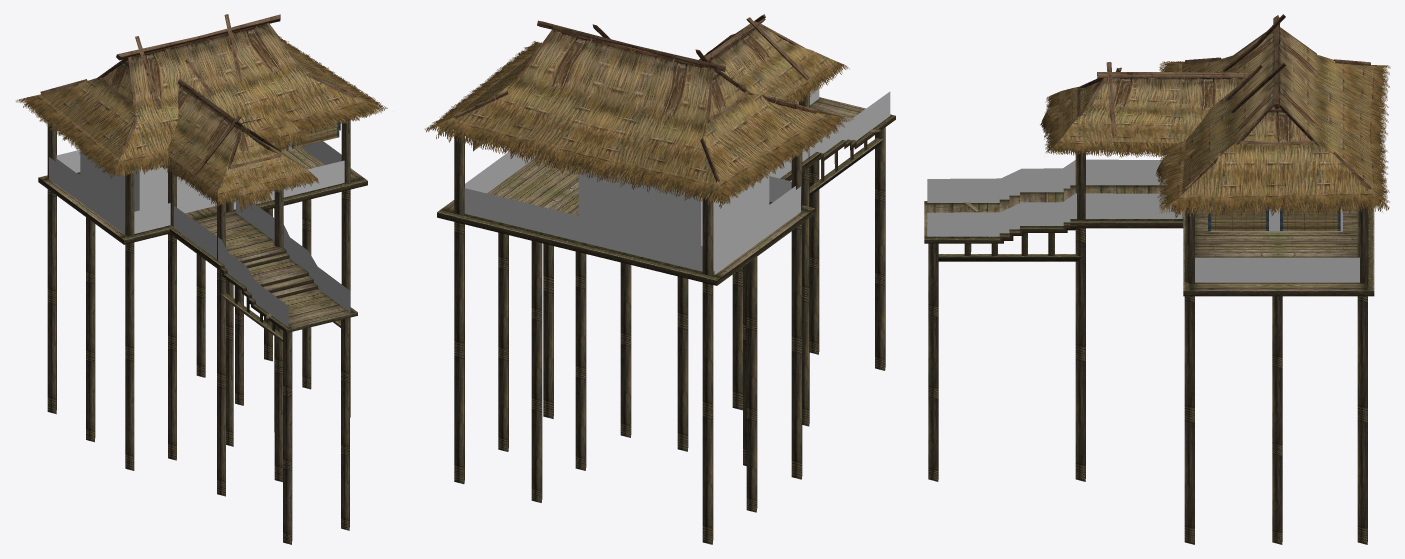
Rendered from maowu_jx_40.FBX.
3 views of the same model, side by side, from view 1: azimuth 30°, elevation 25°; view 2: azimuth 150°, elevation 25°; view 3: azimuth 270°, elevation 25° (orthographic). The views are drawn at different scales.
Parts seen in each view (by area): view 1: maowu_jx_40; view 2: maowu_jx_40; view 3: maowu_jx_40.
Part boxes in pixels (x1,y1,x2,y2): maowu_jx_40: (16,14,387,544); maowu_jx_40: (425,14,895,544); maowu_jx_40: (924,14,1390,544).
Size of what is drawn, in the model's own units: 1940 by 2563 by 2490.
